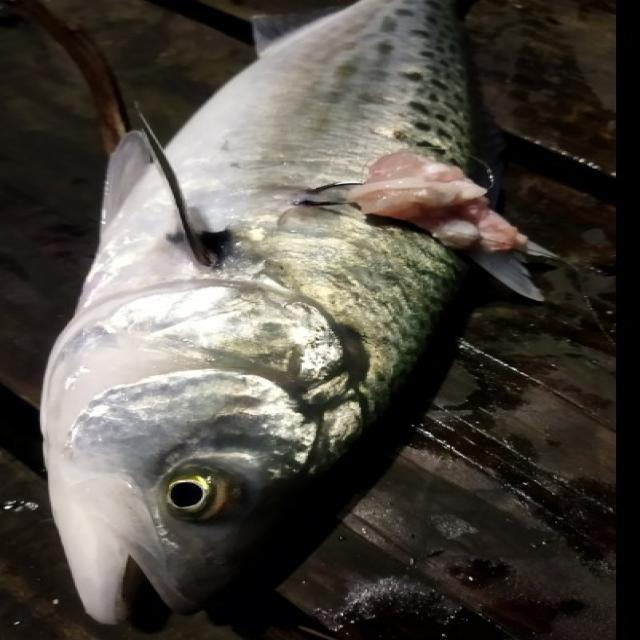Australian Salmon: (11, 0, 538, 640)
